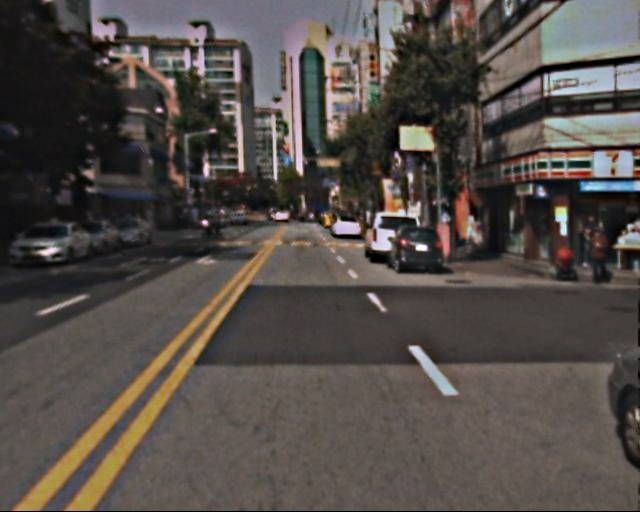person: (587, 217, 615, 284), (211, 209, 225, 242)
